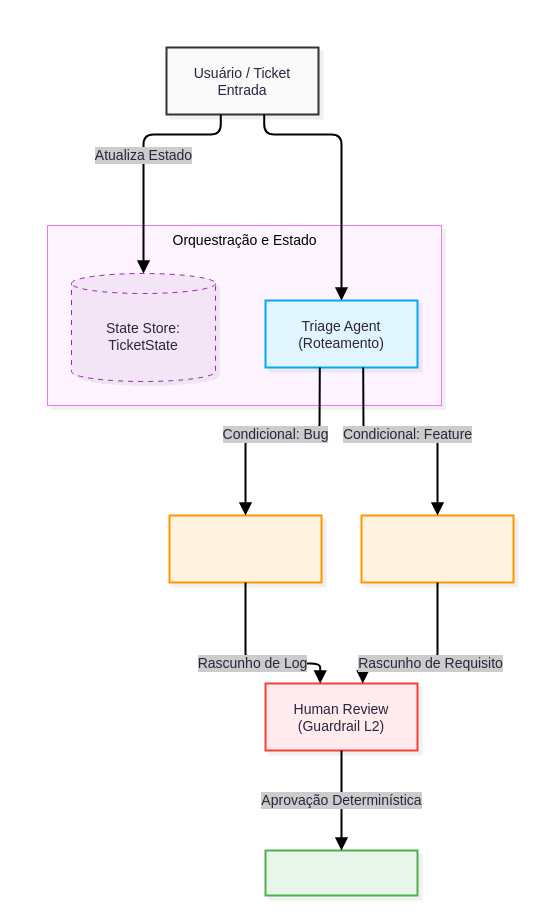
Image size: 535x917. Some labels were removed from this diagram. Here are the shapes that lost their labels. From the top down, the centre of each, then its label:
the point at 247,550: Bug Agent (Técnico)
the point at 439,550: Feature Agent (Negócios)
the point at 343,874: Saída Aprovada
